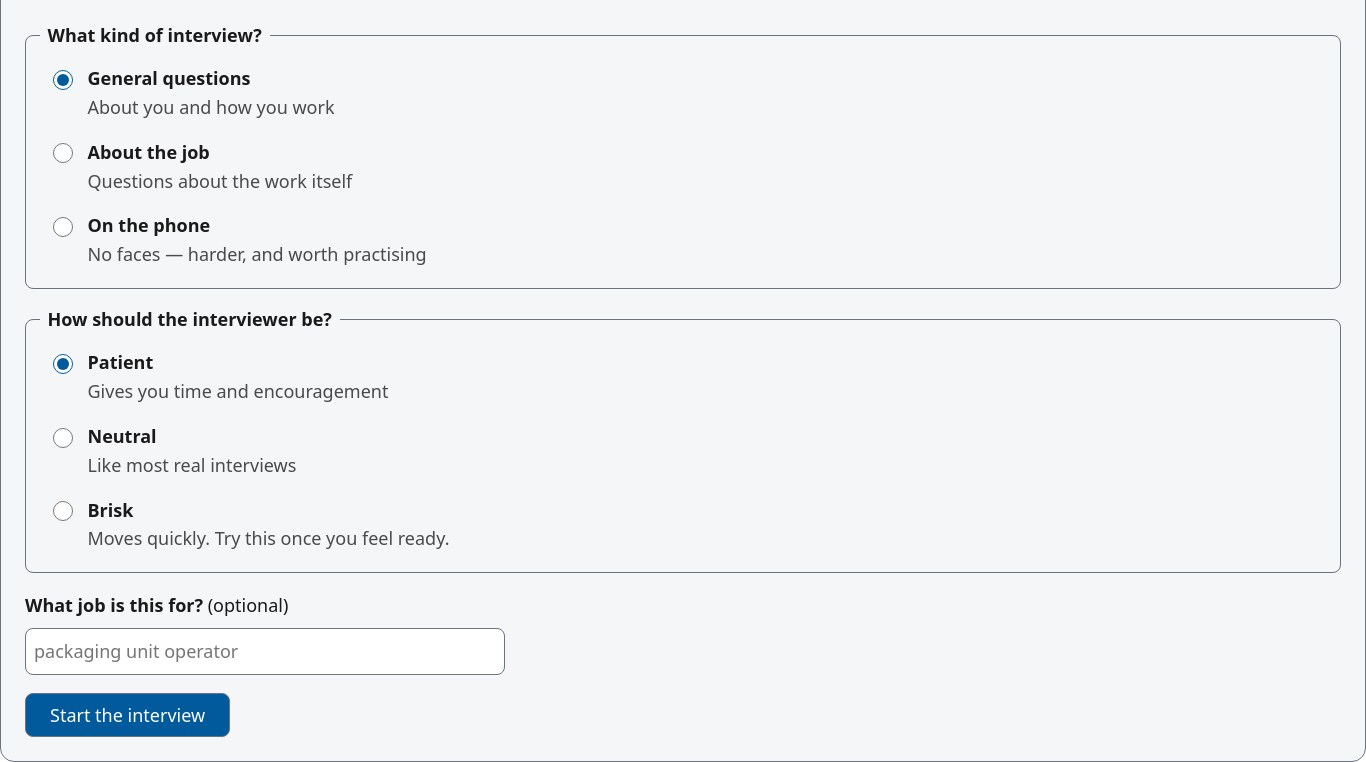
Test: when the service is down › explains rather than showing a blank screen
The image size is (1366, 762).
(page scrolled)
Click the button "Start the interview".
click(128, 715)  # box top-left (25, 693), bottom-right (230, 737)
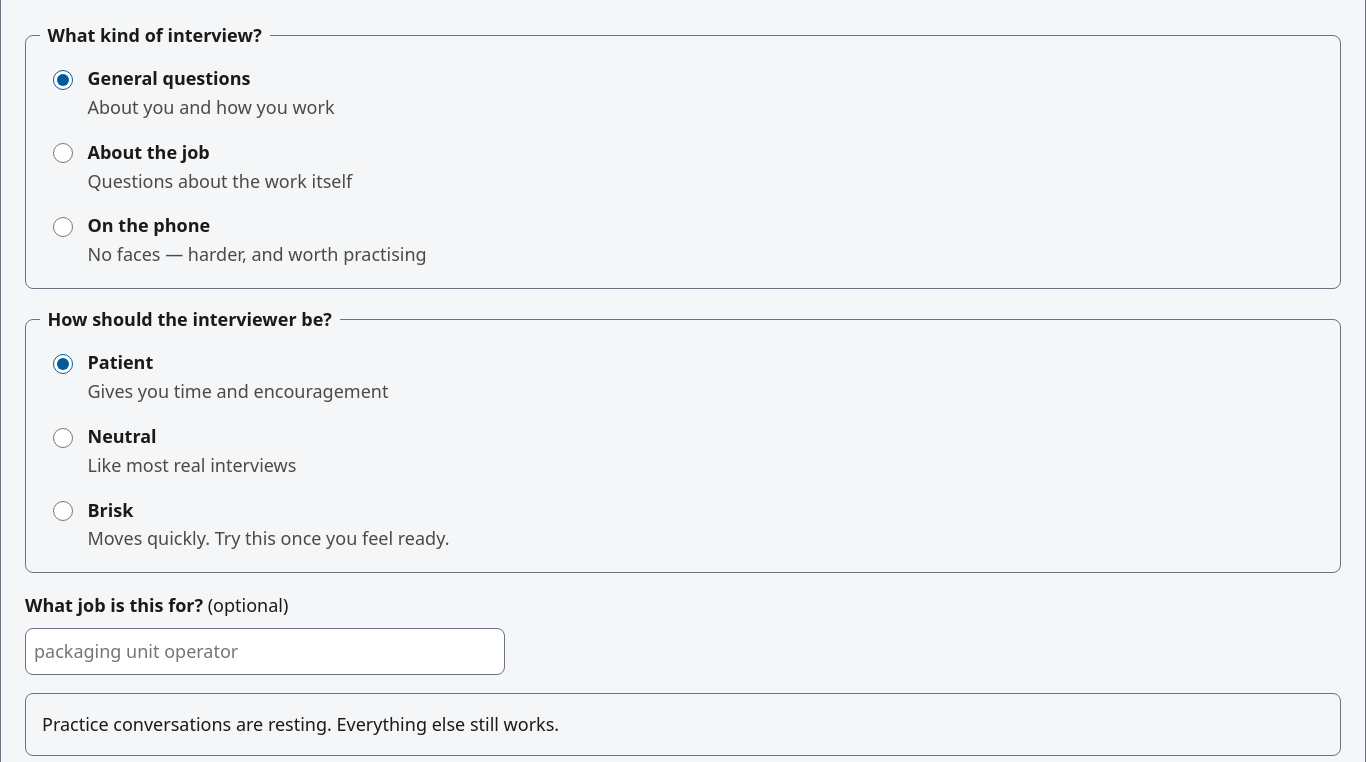
expect the message with test id "error-note" shows "still works": met, box top-left (42, 712), bottom-right (559, 736)
